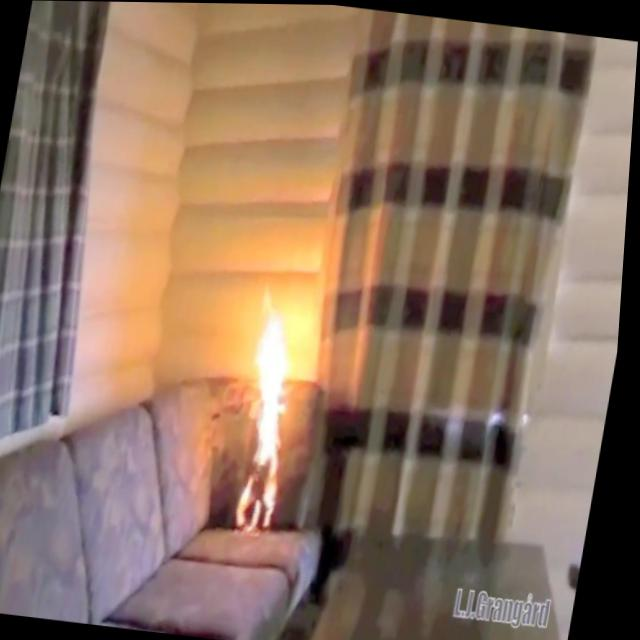fire: (223, 280, 321, 539)
